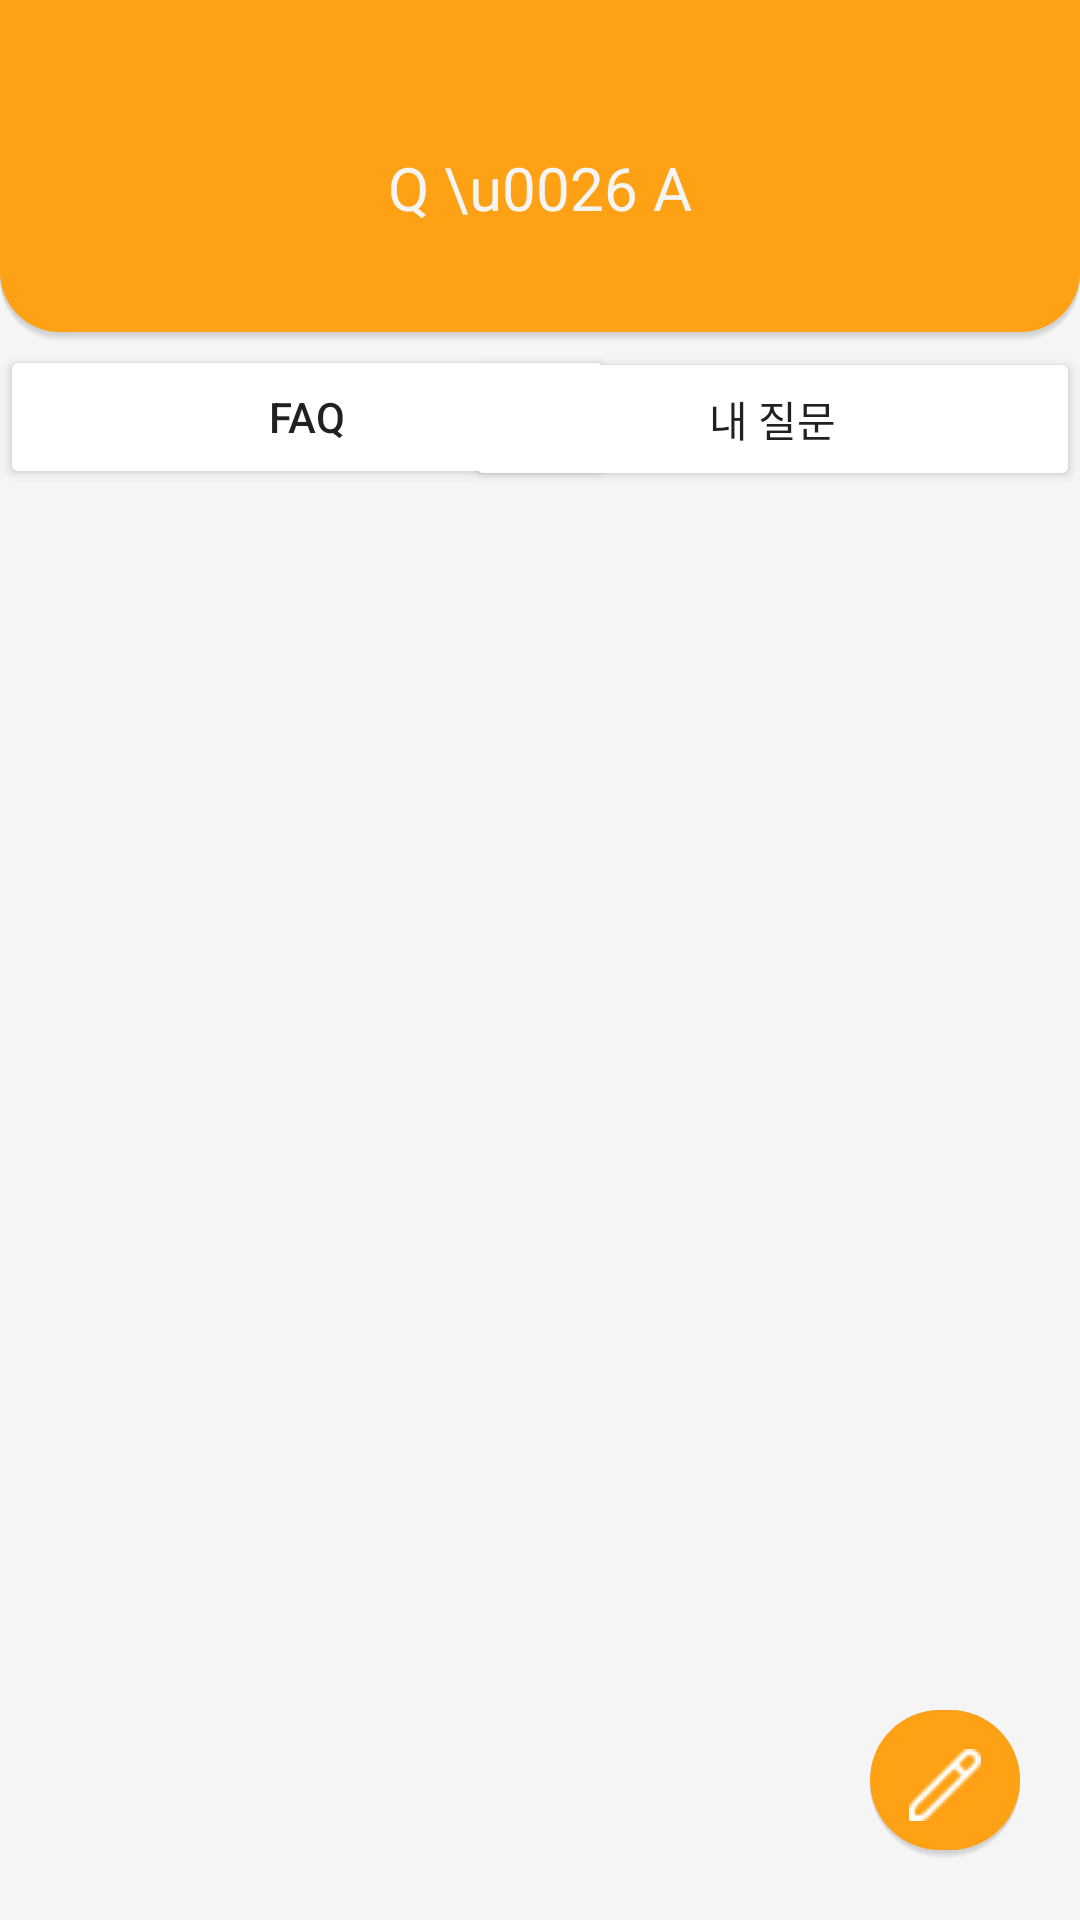

Icons on this 1080×1920 Android screen, each with the point to tap as (x,y):
qna pencil: (945,1782)
